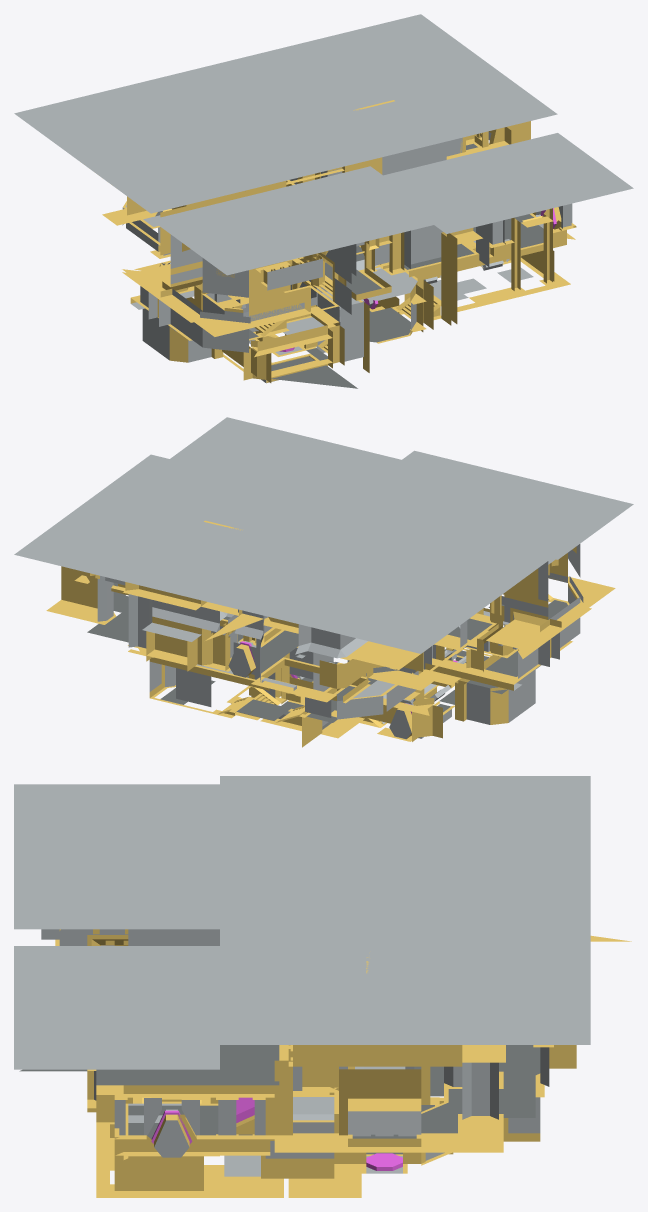
Rendered from pul1duel-oa_unity_layout.fbx.
The picture shows the model from 3 angles, top to bottom: view 1: azimuth 30°, elevation 25°; view 2: azimuth 150°, elevation 25°; view 3: azimuth 270°, elevation 25°; orthographic projection. The views are drawn at different scales.
Parts seen in each view (by area): view 1: PUL1DUEL_OA_Layout_Visual_ReplacedMaterials; view 2: PUL1DUEL_OA_Layout_Visual_ReplacedMaterials; view 3: PUL1DUEL_OA_Layout_Visual_ReplacedMaterials.
Part boxes in pixels (x1,y1,x2,y2): PUL1DUEL_OA_Layout_Visual_ReplacedMaterials: [14, 14, 633, 388]; PUL1DUEL_OA_Layout_Visual_ReplacedMaterials: [14, 417, 633, 747]; PUL1DUEL_OA_Layout_Visual_ReplacedMaterials: [14, 776, 631, 1197].
Size of what is drawn, in the model's own units: 3475 by 1525 by 3387.
